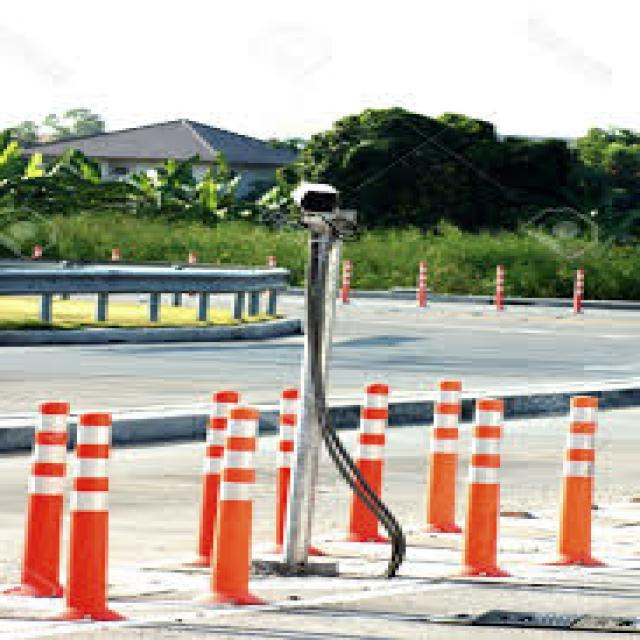bollard: (4, 388, 80, 603), (540, 386, 622, 580), (54, 404, 125, 628), (446, 397, 516, 592), (174, 380, 243, 573), (202, 405, 262, 615), (331, 374, 391, 552), (414, 379, 468, 543), (272, 383, 323, 555), (336, 257, 363, 316), (491, 258, 516, 310), (412, 254, 432, 307), (574, 264, 586, 314)
